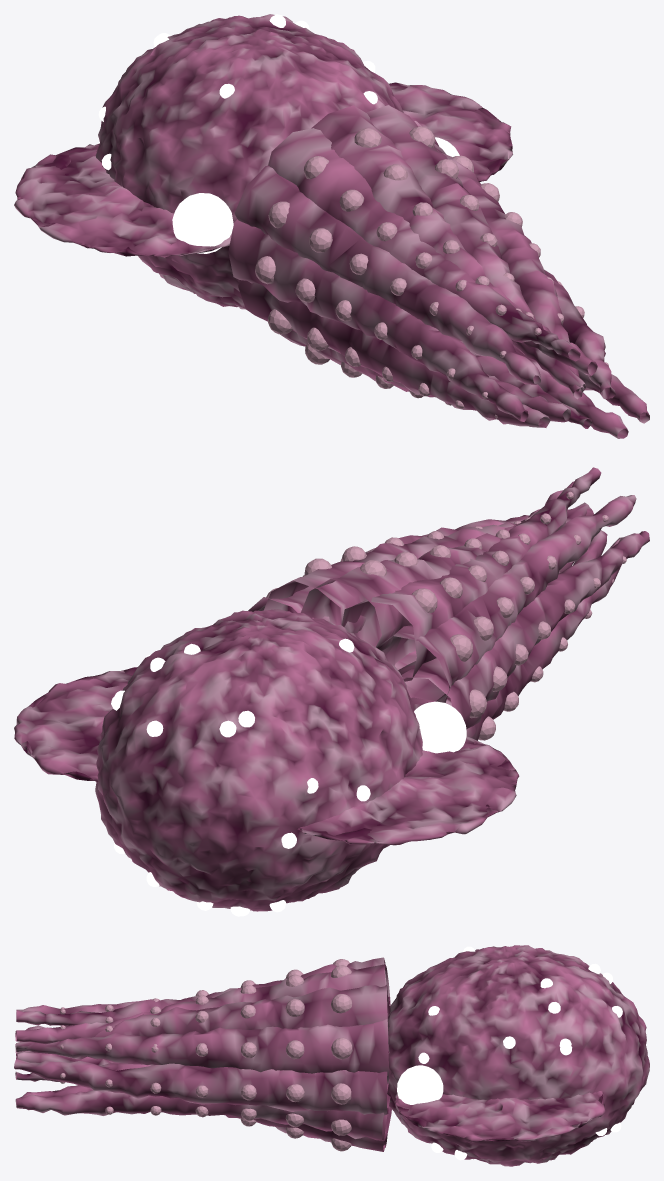
The model's file is ixil_huge.glb.
The picture shows the model from 3 angles, top to bottom: view 1: azimuth 30°, elevation 25°; view 2: azimuth 150°, elevation 25°; view 3: azimuth 270°, elevation 25°; orthographic projection. The views are drawn at different scales.
Visible parts, largest first — view 1: ixil_huge.001; view 2: ixil_huge.001; view 3: ixil_huge.001.
Part boxes in pixels (x1,y1,x2,y2): ixil_huge.001: (14,14,649,438); ixil_huge.001: (14,467,649,916); ixil_huge.001: (14,945,649,1166).
Size of the model in its own units: 6.34 by 3.46 by 9.99.
